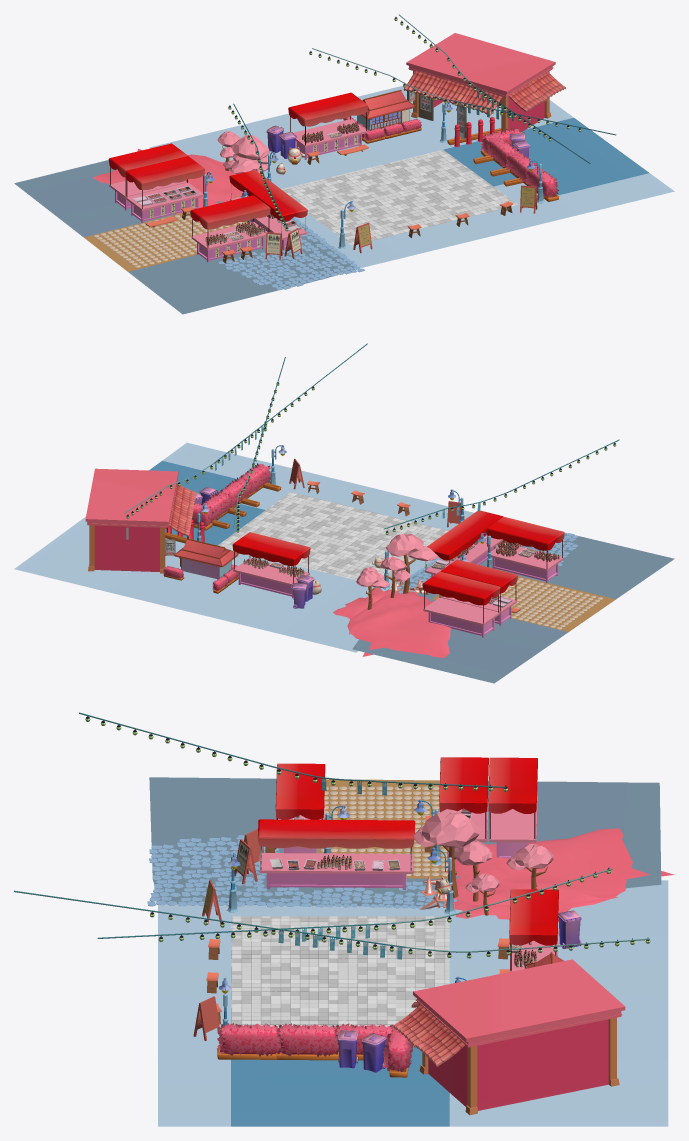
File: Environment 08 10 2025_1.fbx
3 renders of one model, top to bottom at view 1: azimuth 30°, elevation 25°; view 2: azimuth 150°, elevation 25°; view 3: azimuth 270°, elevation 25°, orthographic. The views are drawn at different scales.
Visible parts, largest first — view 1: polySurface1407; view 2: polySurface1407; view 3: polySurface1407.
Boxes of the visible parts, x1,y1,x2,y2 form: polySurface1407: [14, 14, 674, 314]; polySurface1407: [14, 343, 674, 683]; polySurface1407: [14, 712, 674, 1126].
Bounding box in the file's own units: 4880 × 953 × 3904.
3 materials, 2 textured.
